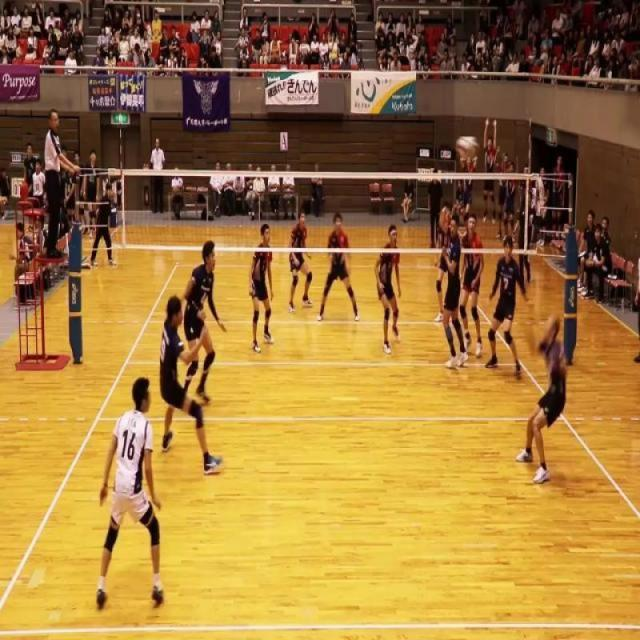volleyball: (454, 135, 480, 159)
